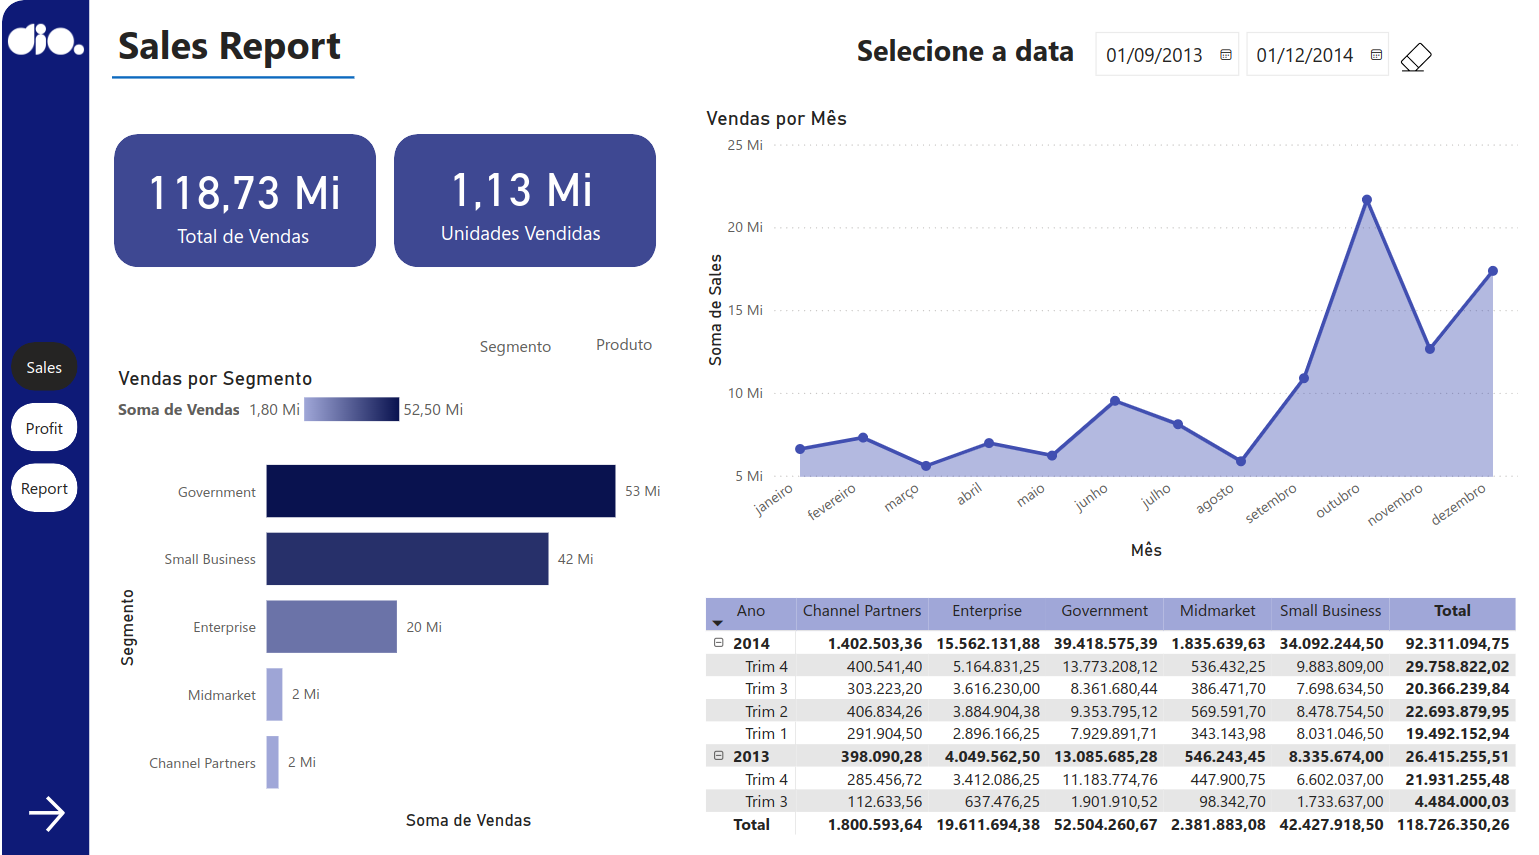

What the dashboard file says about the page in this screenshot:
{"tool":"powerbi","page":{"name":"Sales","canvas":[1280,720],"ordinal":0},"visuals":[{"type":"shape","box":[0,0,73.6,720],"z":0},{"type":"textbox","box":[92.5,9.5,218.6,55.6],"z":0,"group":"g3"},{"type":"shape","box":[92.4,268,474.5,437.8],"z":500,"group":"g2"},{"type":"image","title":"Logo DIO","box":[0,0,73.8,65],"z":1000},{"type":"slicer","fields":{"Values":["financials.Date"]},"box":[906.6,16.6,268.2,56.9],"z":1000,"group":"g1"},{"type":"shape","box":[92.5,45.4,203.9,39.4],"z":1000,"group":"g3"},{"type":"clusteredBarChart","title":"Vendas por Segmento","fields":{"Category":["financials.Segment"],"Y":["Sum(financials. Sales)"]},"box":[92.4,311.1,474.8,391.7],"z":1000,"group":"g2"},{"type":"textbox","box":[713.7,20.3,203.9,42.2],"z":2000,"group":"g1"},{"type":"areaChart","title":"Vendas por Mês","fields":{"Category":["financials.Date.Variation.Hierarquia de datas.Mês"],"Y":["Sum(financials. Sales)"]},"box":[586.9,92.4,693.1,383.5],"z":2000},{"type":"group","id":"g1","title":"Filtro por Data","box":[713.7,16.6,501,56.9],"z":3000},{"type":"group","id":"g2","title":"Vendas","box":[92.4,268,474.8,437.8],"z":4000},{"type":"group","id":"g3","title":"Título do Report","box":[92.5,9.5,218.6,75.7],"z":5000},{"type":"actionButton","title":"Botão Avançar","box":[16.5,664.9,40.4,40.4],"z":6000},{"type":"group","id":"g4","title":"Cartoes","box":[92.4,109.7,457.5,114.4],"z":7000},{"type":"shape","box":[94.5,112.8,220.5,112],"z":7750,"group":"g4"},{"type":"pivotTable","fields":{"Values":["Sum(financials. Sales)"],"Rows":["financials.Date.Variation.Hierarquia de datas.Ano","financials.Date.Variation.Hierarquia de datas.Trimestre"],"Columns":["financials.Segment"]},"box":[586.9,497.9,693.1,221.8],"z":8000},{"type":"pageNavigator","box":[7.5,287.5,56.2,145],"z":9000},{"type":"actionButton","title":"Botão Barra","box":[385.9,268,91.9,44.6],"z":9250,"group":"g2"},{"type":"actionButton","title":"Botão Rosca","box":[480.2,268,86,40.7],"z":9500,"group":"g2"},{"type":"shape","box":[329.6,112.8,220.5,112],"z":14500,"group":"g4"},{"type":"card","fields":{"Values":["Sum(financials.Units Sold)"]},"box":[325.9,109.7,219.7,112.5],"z":14750,"group":"g4"},{"type":"card","fields":{"Values":["Sum(financials. Sales)"]},"box":[92.4,111.9,220.7,112.5],"z":15000,"group":"g4"},{"type":"image","box":[1163.9,28.2,50.8,39.2],"z":15002,"group":"g1"},{"type":"actionButton","title":"Botão Limpar","box":[1167,24.6,45.4,43.8],"z":15502,"group":"g1"}]}

Visuals, with their boxes on the page's 1280x720 design canvas (x1, y1, x2, y2). These are canvas units, not pixel positions in the 1539x855 screenshot, which may show the page scaled, cropped or inside an application window:
shape: {"left": 0, "top": 0, "right": 74, "bottom": 720}
textbox: {"left": 92, "top": 10, "right": 311, "bottom": 65}
shape: {"left": 92, "top": 268, "right": 567, "bottom": 706}
"Logo DIO" image: {"left": 0, "top": 0, "right": 74, "bottom": 65}
slicer - financials.Date: {"left": 907, "top": 17, "right": 1175, "bottom": 74}
shape: {"left": 92, "top": 45, "right": 296, "bottom": 85}
"Vendas por Segmento" clusteredBarChart: {"left": 92, "top": 311, "right": 567, "bottom": 703}
textbox: {"left": 714, "top": 20, "right": 918, "bottom": 62}
"Vendas por Mês" areaChart: {"left": 587, "top": 92, "right": 1280, "bottom": 476}
"Filtro por Data" group: {"left": 714, "top": 17, "right": 1215, "bottom": 74}
"Vendas" group: {"left": 92, "top": 268, "right": 567, "bottom": 706}
"Título do Report" group: {"left": 92, "top": 10, "right": 311, "bottom": 85}
"Botão Avançar" actionButton: {"left": 16, "top": 665, "right": 57, "bottom": 705}
"Cartoes" group: {"left": 92, "top": 110, "right": 550, "bottom": 224}
shape: {"left": 94, "top": 113, "right": 315, "bottom": 225}
pivotTable - Sum(financials. Sales) x financials.Date.Variation.Hierarquia de datas.Ano: {"left": 587, "top": 498, "right": 1280, "bottom": 720}
pageNavigator: {"left": 8, "top": 288, "right": 64, "bottom": 432}
"Botão Barra" actionButton: {"left": 386, "top": 268, "right": 478, "bottom": 313}
"Botão Rosca" actionButton: {"left": 480, "top": 268, "right": 566, "bottom": 309}
shape: {"left": 330, "top": 113, "right": 550, "bottom": 225}
card - Sum(financials.Units Sold): {"left": 326, "top": 110, "right": 546, "bottom": 222}
card - Sum(financials. Sales): {"left": 92, "top": 112, "right": 313, "bottom": 224}
image: {"left": 1164, "top": 28, "right": 1215, "bottom": 67}
"Botão Limpar" actionButton: {"left": 1167, "top": 25, "right": 1212, "bottom": 68}
